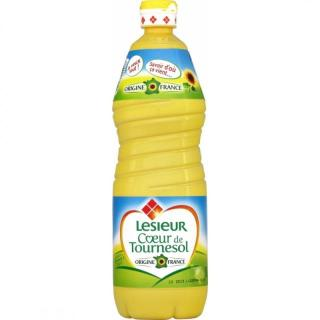Plastic-bottle: (107, 1, 215, 320)
